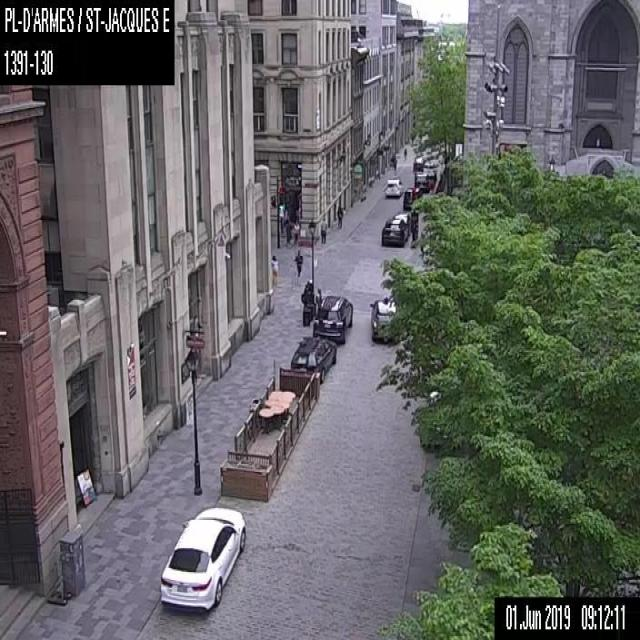pedestrian: (270, 253, 278, 287), (319, 216, 328, 243), (294, 248, 302, 277), (292, 217, 299, 245), (285, 218, 292, 245), (314, 286, 322, 308), (336, 204, 342, 228), (392, 158, 397, 169), (403, 146, 406, 160)
vehicle: (158, 504, 246, 612), (290, 337, 335, 382), (312, 295, 352, 343), (369, 295, 398, 341), (381, 217, 408, 246), (402, 186, 421, 209), (392, 211, 410, 234), (384, 178, 403, 196), (413, 172, 429, 192), (421, 161, 436, 179), (412, 156, 424, 170)
